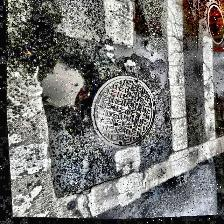pothole: (28, 48, 102, 126)
